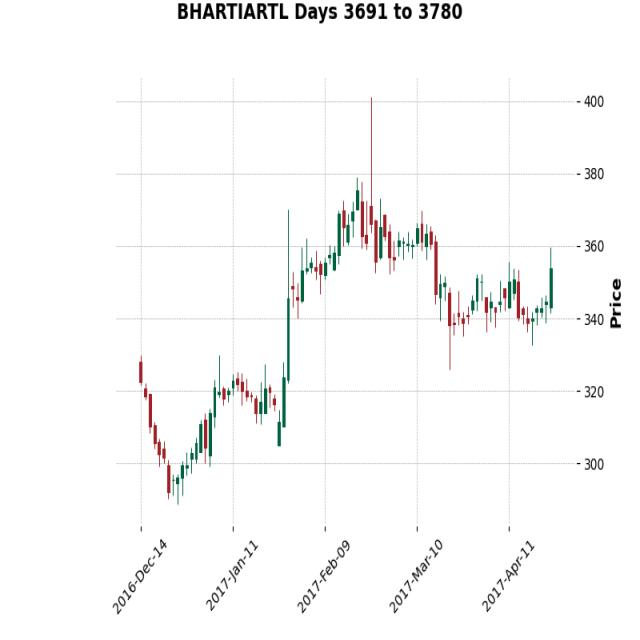Symmetric Triangle: (331, 152, 400, 285)
